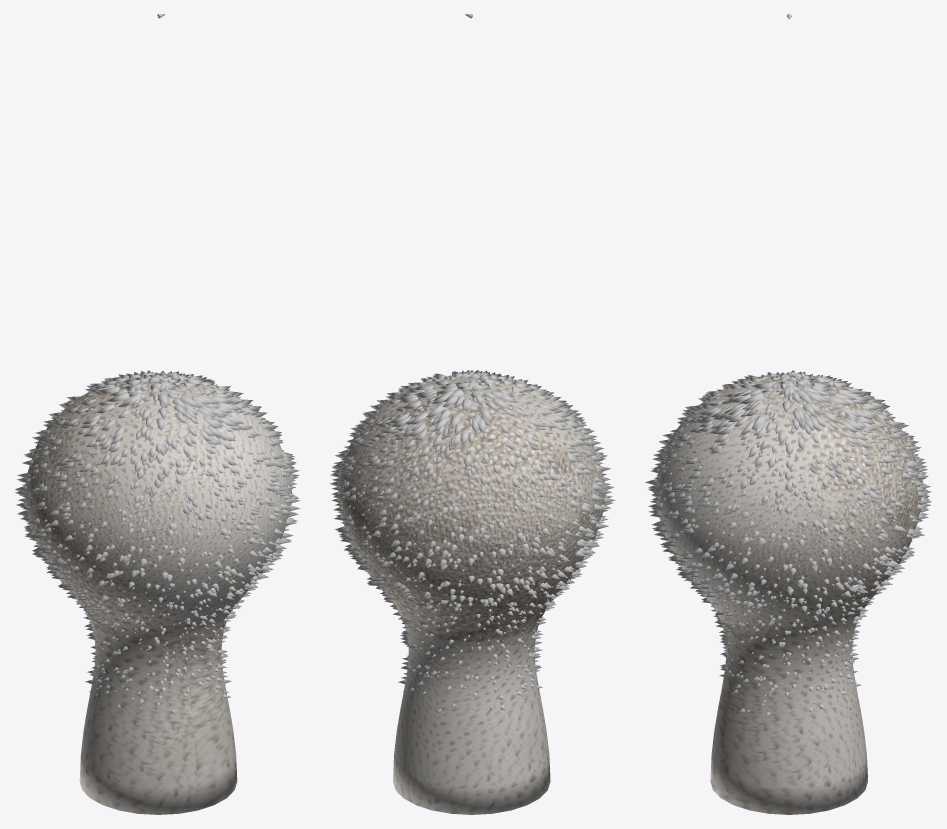
File: Flaschenstäubling.glb
3 renders of one model, left to right at view 1: azimuth 30°, elevation 25°; view 2: azimuth 150°, elevation 25°; view 3: azimuth 270°, elevation 25°, orthographic.
Parts seen in each view (by area): view 1: BézierCurve; view 2: BézierCurve; view 3: BézierCurve.
Part boxes in pixels (left/top/right/bottom): BézierCurve: left=25, top=374, right=291, bottom=814; BézierCurve: left=338, top=374, right=605, bottom=814; BézierCurve: left=655, top=373, right=922, bottom=814.
Size of the model in its own units: 0.2296 by 0.6756 by 0.2297.
2 materials, 1 textured.
